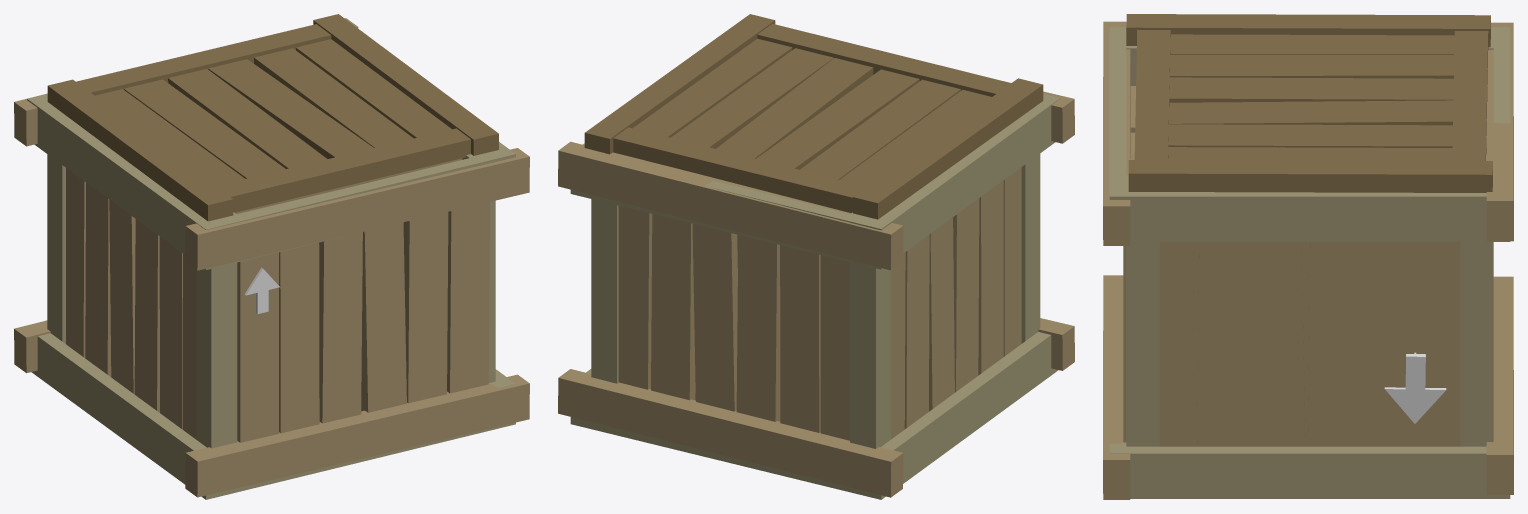
The model's file is Crate 1.fbx.
3 renders of one model, left to right at view 1: azimuth 30°, elevation 25°; view 2: azimuth 150°, elevation 25°; view 3: azimuth 270°, elevation 25°, orthographic. The views are drawn at different scales.
Visible parts, largest first — view 1: Cube.001; view 2: Cube.001; view 3: Cube.001.
Boxes of the visible parts, x1=… form: Cube.001: x1=14, y1=14, x2=529, y2=499; Cube.001: x1=558, y1=14, x2=1074, y2=499; Cube.001: x1=1103, y1=14, x2=1513, y2=499.
Size of the model in its own units: 257 by 246 by 212.
